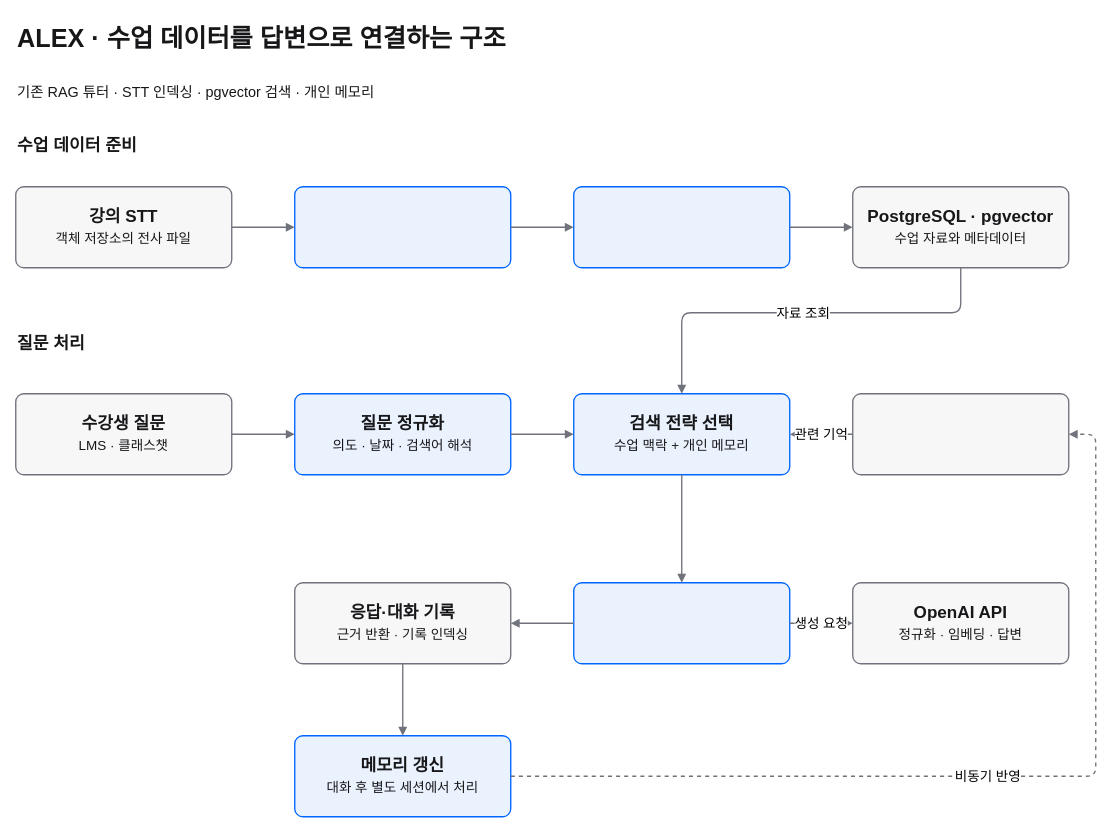
This 1120x833 diagram has some shape labels left out. The box of each missing label's shape, as (x1, y1, x2, y2) in pixels:
STT 인덱서 강사 발화 추출 · 전처리: (294, 186, 511, 268)
개인 메모리 선호 · 사실 · 오답 약점: (852, 393, 1069, 475)
답변 생성 검색 결과 · 말투 규칙 · 근거: (573, 582, 790, 664)
요약·청킹·임베딩 의미 단위와 시간대별 요약: (573, 186, 790, 268)
